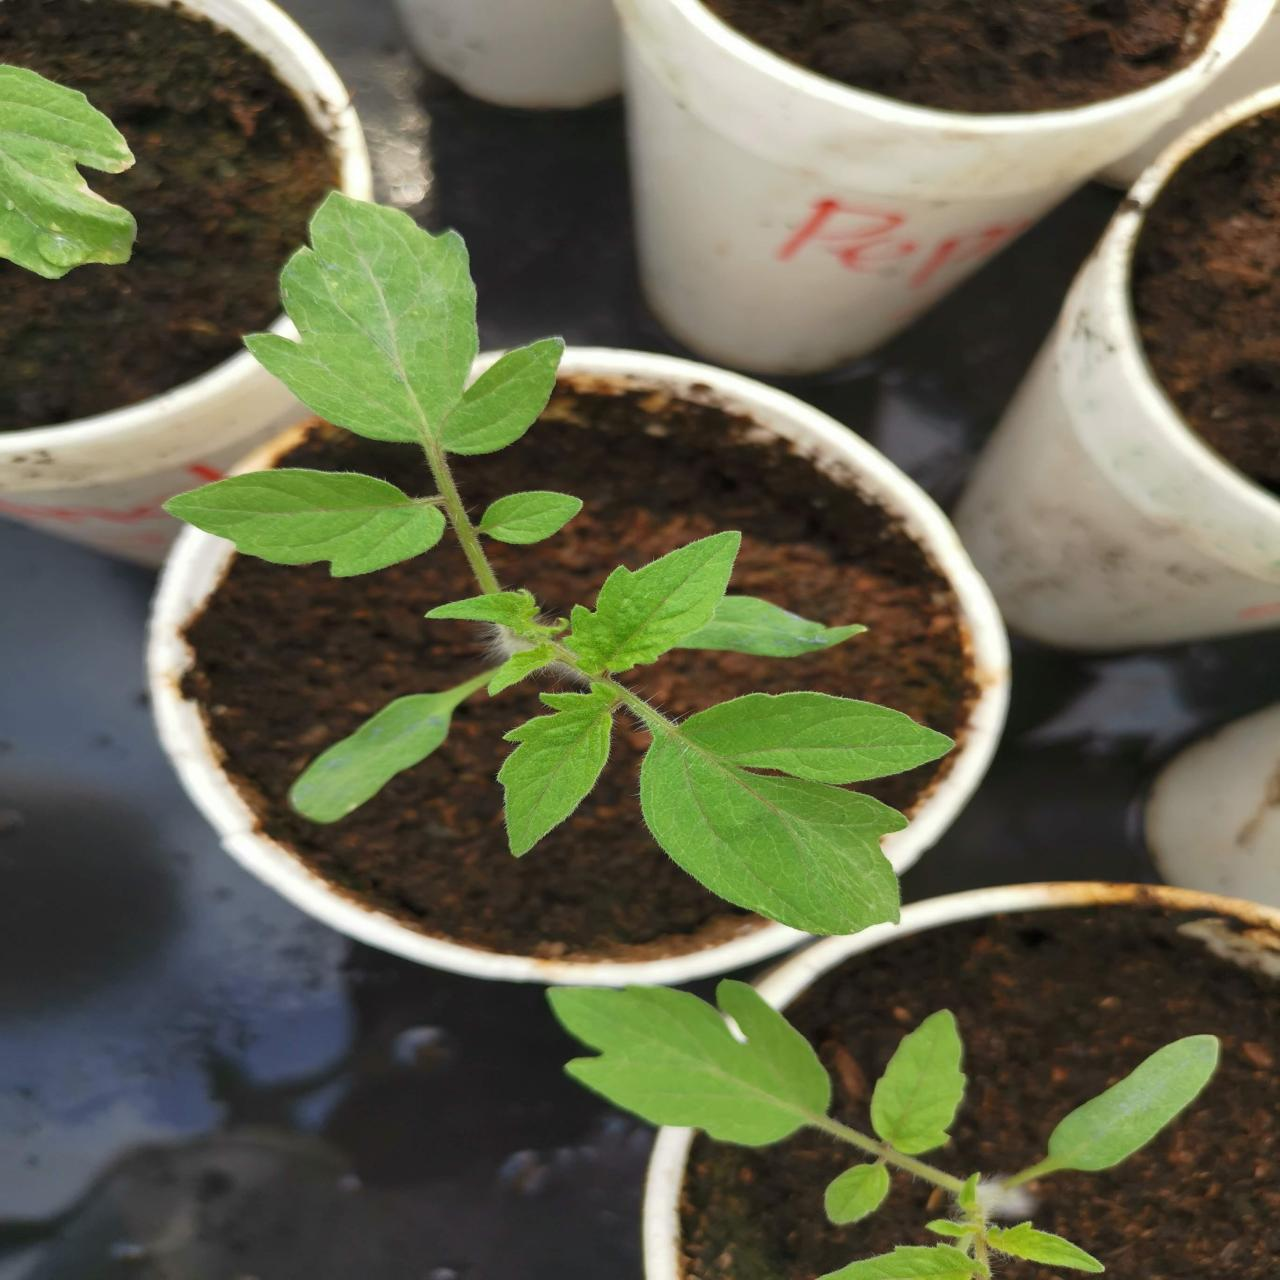T_L_R: (245, 190, 566, 455), (641, 731, 908, 934), (161, 469, 450, 577), (1, 67, 137, 279), (563, 532, 743, 675), (681, 694, 954, 787), (496, 682, 618, 856), (482, 491, 586, 546)
